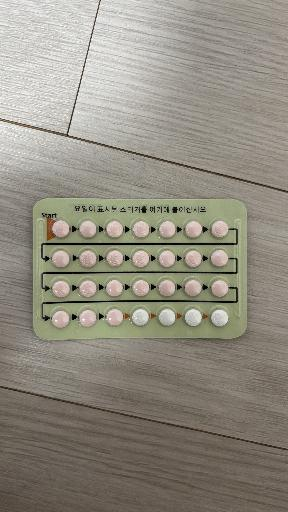Yaz: (33, 196, 247, 340), (79, 221, 97, 238), (52, 220, 70, 237), (52, 250, 70, 267), (79, 250, 97, 267), (79, 280, 97, 297), (159, 221, 176, 238), (185, 221, 202, 238), (211, 220, 228, 237), (106, 280, 123, 297), (211, 280, 228, 297), (52, 311, 69, 328), (79, 310, 96, 327), (106, 309, 123, 326), (132, 309, 149, 326), (159, 309, 176, 326), (185, 309, 202, 326), (52, 281, 70, 297), (133, 279, 149, 297), (133, 221, 149, 238), (106, 221, 123, 237), (159, 250, 175, 267), (185, 251, 202, 267), (211, 250, 228, 266), (185, 280, 202, 296), (211, 310, 228, 326), (107, 250, 123, 266), (133, 251, 149, 267), (159, 280, 175, 296)
